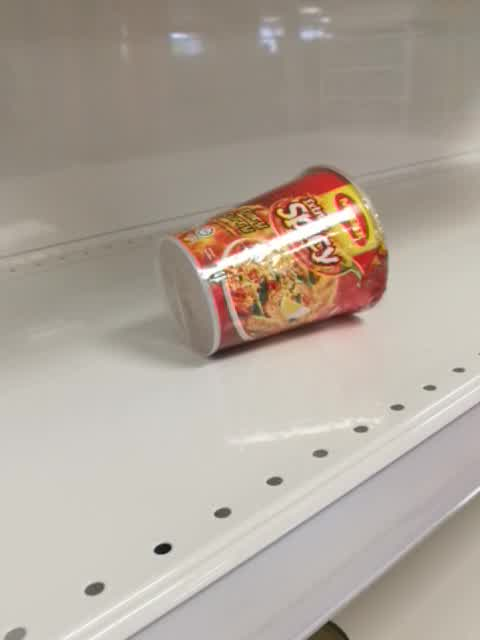maggi: (158, 165, 389, 359)
